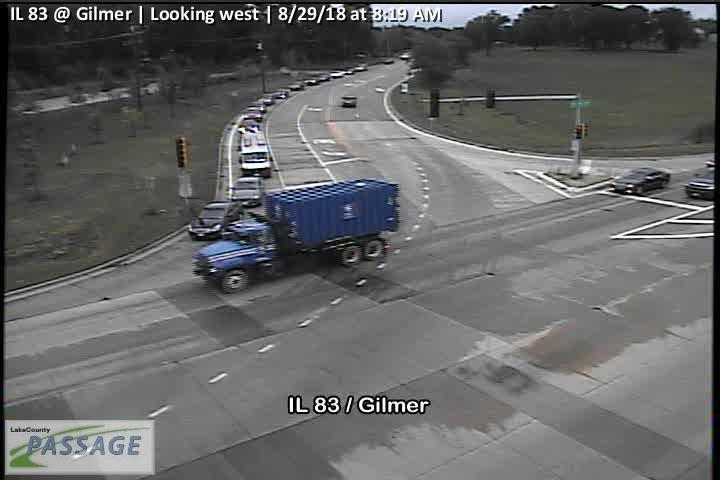SUV: (188, 199, 243, 241)
Sedan: (609, 167, 671, 195), (227, 176, 264, 206), (238, 119, 262, 133), (247, 100, 267, 112), (341, 95, 358, 107), (243, 109, 261, 120)
Truck: (191, 177, 401, 294), (238, 131, 273, 177)
